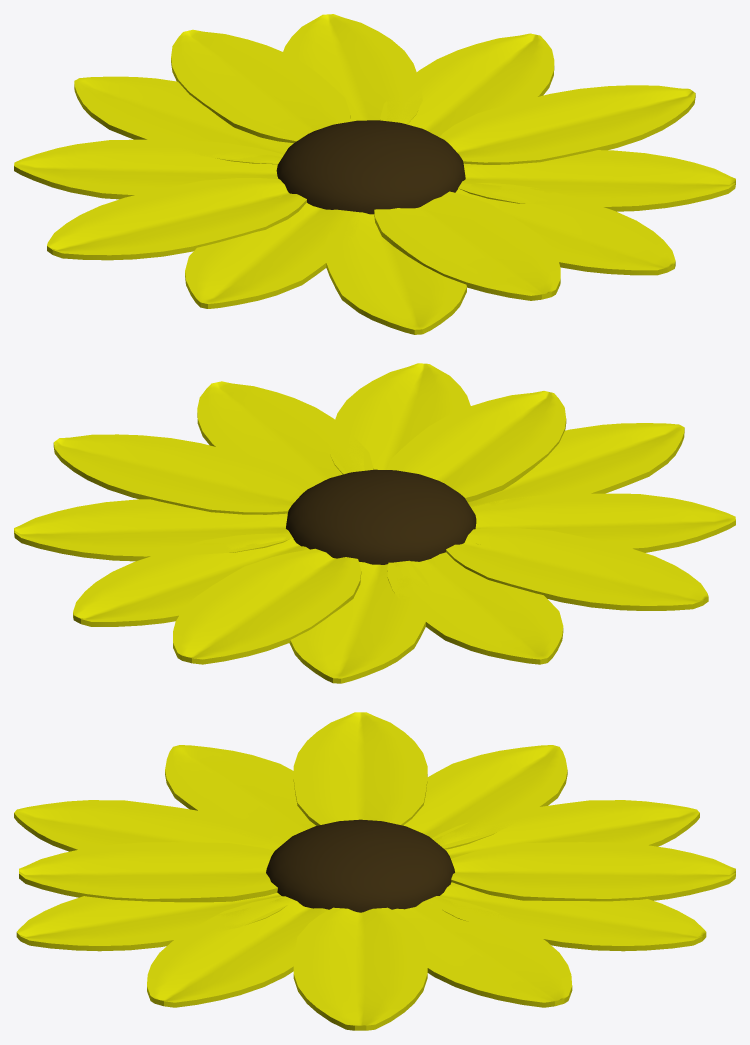
The model's file is sunflower.fbx.
3 renders of one model, top to bottom at view 1: azimuth 30°, elevation 25°; view 2: azimuth 150°, elevation 25°; view 3: azimuth 270°, elevation 25°, orthographic.
Visible parts, largest first — view 1: petal13, center; view 2: petal13, center; view 3: petal13, center.
Boxes of the visible parts, bbox=[...] form: petal13: bbox=[14, 14, 735, 334]; center: bbox=[276, 120, 465, 214]; petal13: bbox=[14, 363, 735, 683]; center: bbox=[286, 469, 476, 564]; petal13: bbox=[14, 712, 735, 1030]; center: bbox=[266, 819, 454, 912].
Size of the model in its own units: 11.89 by 0.7207 by 11.57.
